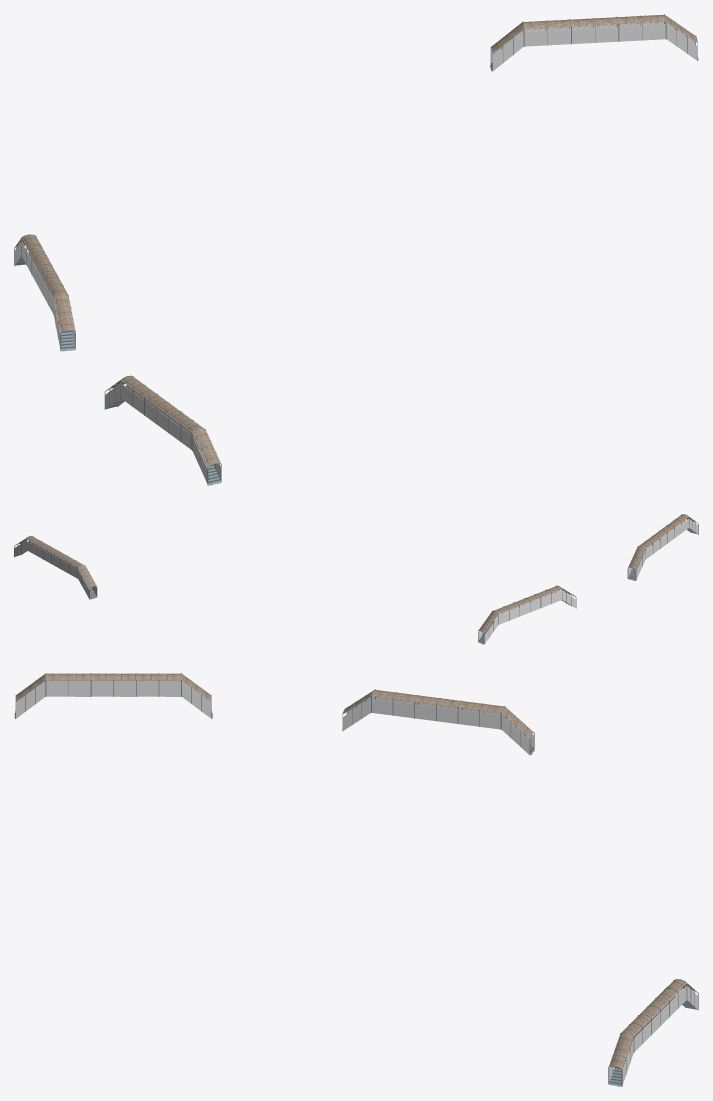
Rendered from oval_mod_bridges.FBX.
The picture shows the model from 3 angles, top to bottom: view 1: azimuth 30°, elevation 25°; view 2: azimuth 150°, elevation 25°; view 3: azimuth 270°, elevation 25°; orthographic projection. The views are drawn at different scales.
Parts seen in each view (by area): view 1: overpass_middle006, overpass_middle007, overpass_middle008, overpass_stairs, overpass_stairs003, overpass_stairs005, overpass_middle, overpass_middle002, overpass_stairs006, overpass_middle001; view 2: overpass_stairs005, overpass_stairs002, overpass_stairs004, overpass_middle004, overpass_middle003, overpass_middle005, overpass_middle008, overpass_middle006, overpass_middle007, overpass_middle002, overpass_middle001, overpass_middle; view 3: overpass_middle, overpass_middle001, overpass_middle002, overpass_middle005, overpass_middle003, overpass_middle004, overpass_stairs006, overpass_stairs004, overpass_stairs002, overpass_stairs, overpass_stairs003, overpass_middle008 (+1 smaller).
Boxes of the visible parts, x1,y1,x2,y2 form: overpass_middle006: [617, 14, 666, 41]; overpass_middle007: [522, 19, 571, 46]; overpass_middle008: [569, 17, 618, 43]; overpass_stairs: [192, 428, 221, 485]; overpass_stairs003: [53, 293, 75, 351]; overpass_stairs005: [490, 22, 524, 71]; overpass_middle: [120, 375, 157, 415]; overpass_middle002: [144, 393, 181, 432]; overpass_stairs006: [664, 15, 698, 60]; overpass_middle001: [168, 410, 202, 449]; overpass_stairs005: [78, 565, 97, 599]; overpass_stairs002: [627, 546, 645, 580]; overpass_stairs004: [478, 610, 498, 644]; overpass_middle004: [534, 585, 562, 607]; overpass_middle003: [493, 602, 519, 624]; overpass_middle005: [513, 594, 540, 616]; overpass_middle008: [43, 545, 67, 568]; overpass_middle006: [25, 535, 50, 558]; overpass_middle007: [60, 555, 83, 578]; overpass_middle002: [652, 524, 674, 548]; overpass_middle001: [667, 514, 689, 537]; overpass_middle: [639, 535, 660, 558]; overpass_middle: [136, 673, 181, 696]; overpass_middle001: [45, 673, 90, 696]; overpass_middle002: [91, 673, 136, 696]; overpass_middle005: [414, 695, 461, 723]; overpass_middle003: [458, 700, 505, 729]; overpass_middle004: [371, 689, 418, 718]; overpass_stairs006: [608, 1032, 633, 1086]; overpass_stairs004: [501, 706, 534, 755]; overpass_stairs002: [181, 673, 212, 718]; overpass_stairs: [14, 673, 45, 718]; overpass_stairs003: [342, 690, 375, 731]; overpass_middle008: [638, 997, 669, 1034].
Size of the model in its own units: 4620 by 240 by 3574.
